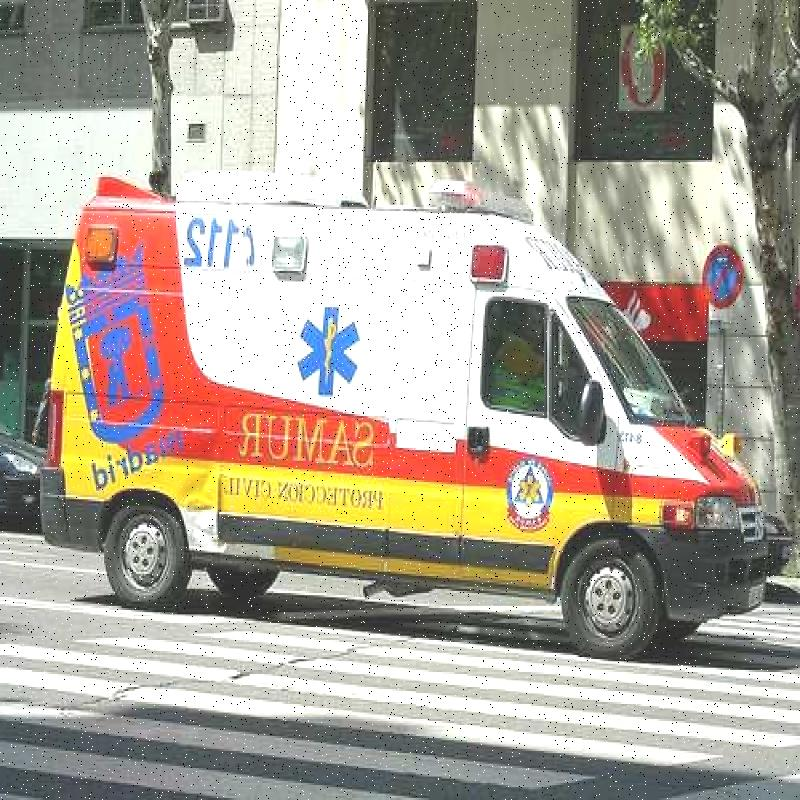AmbulanceSiren: (448, 244, 520, 303), (74, 218, 134, 276)
